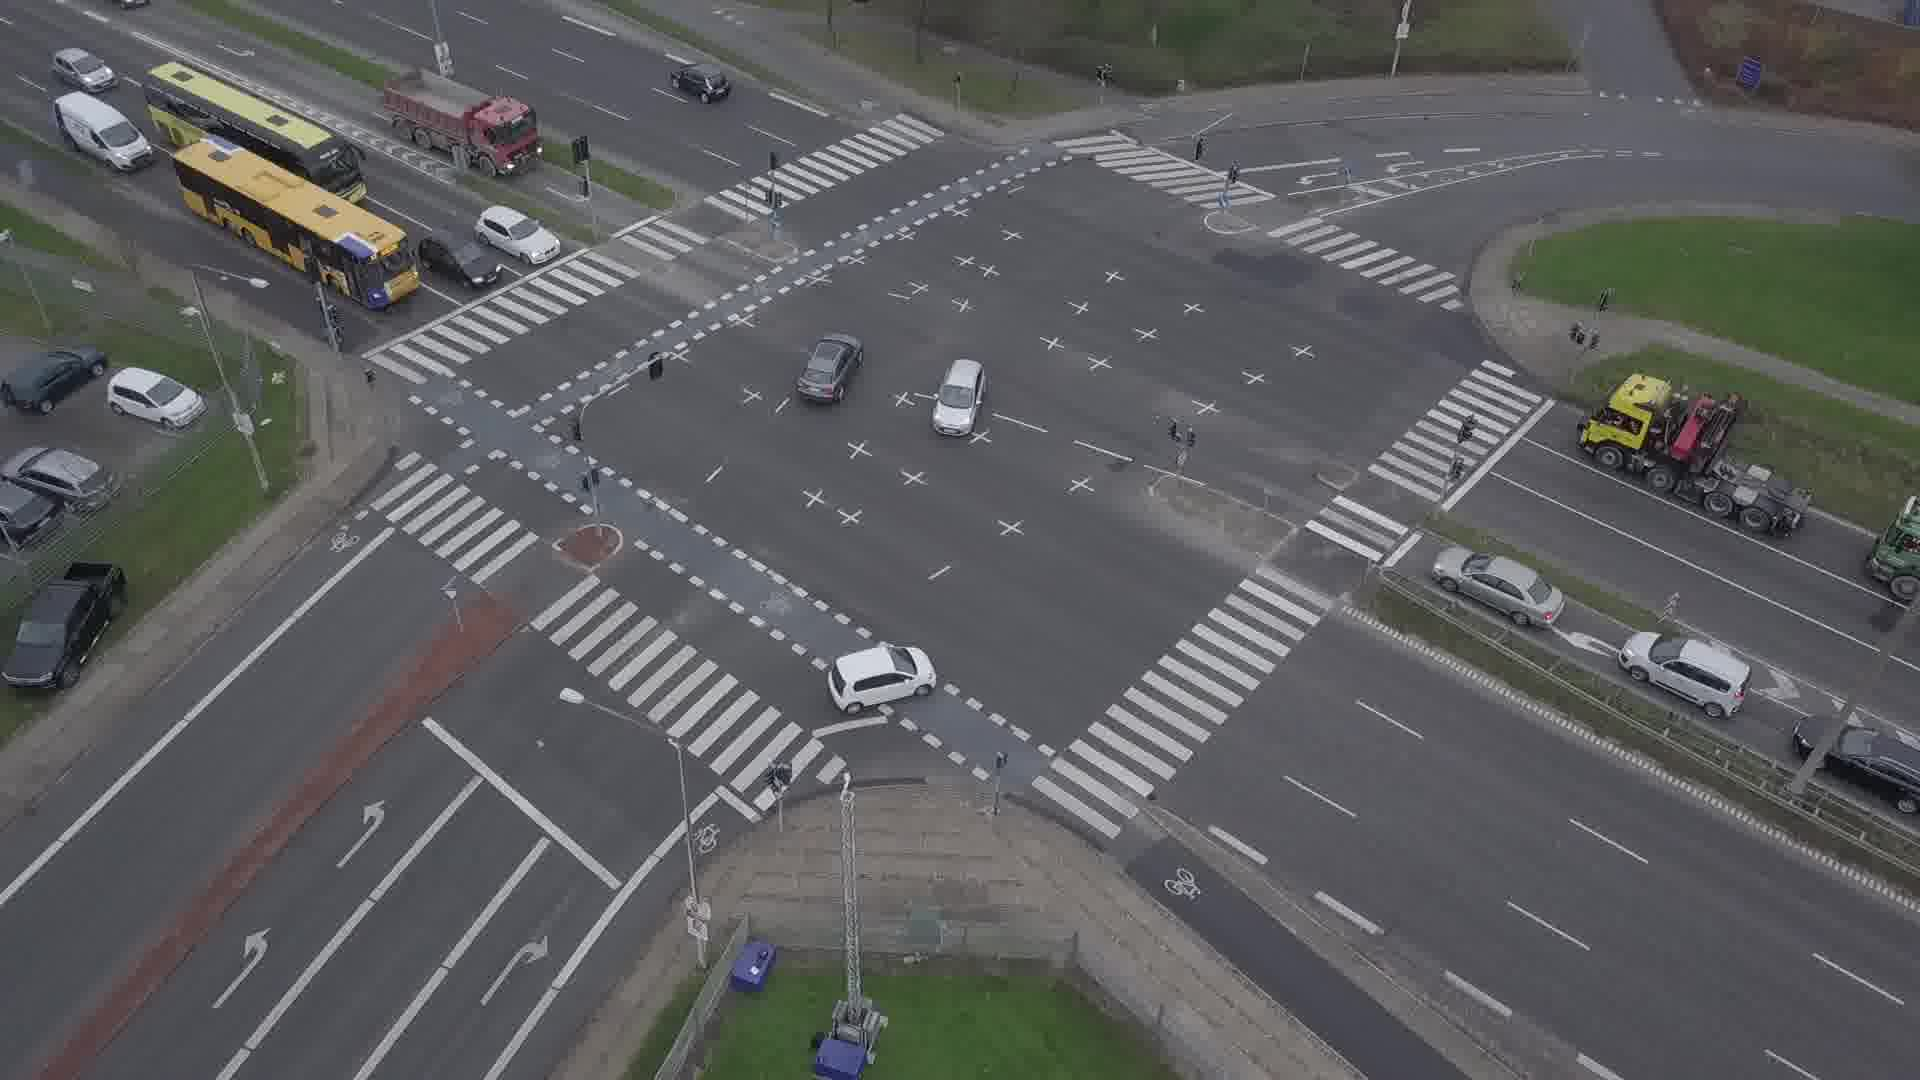bicycle: (320, 304, 347, 343)
bus: (170, 133, 420, 308), (144, 60, 365, 205)
car: (1792, 715, 1920, 816), (1618, 631, 1754, 719), (1431, 547, 1568, 629), (826, 645, 936, 715), (475, 205, 561, 265), (417, 229, 502, 289), (796, 332, 865, 402), (932, 357, 988, 436), (51, 47, 118, 92), (669, 63, 731, 104)
lorry: (1576, 373, 1814, 534), (384, 71, 544, 178), (53, 92, 154, 172), (1867, 496, 1920, 610)
